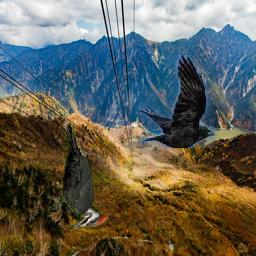Crow: (139, 56, 215, 149)
Woodpecker: (47, 122, 109, 231)
